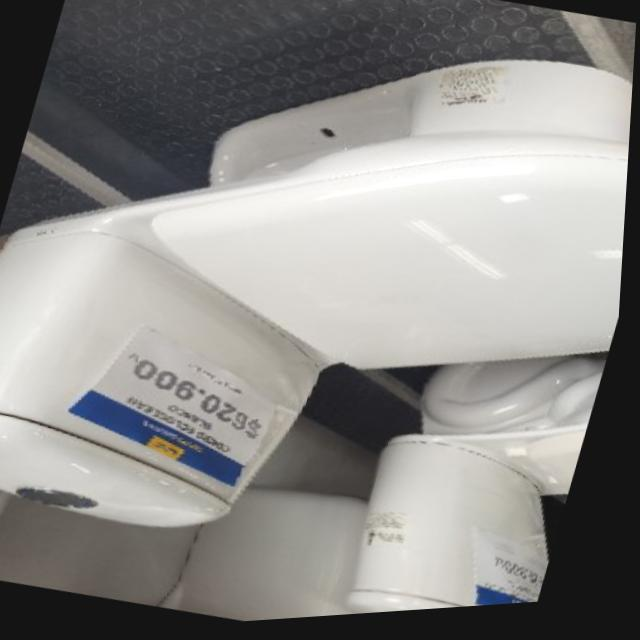toilet: (0, 0, 640, 640), (338, 322, 613, 621)
